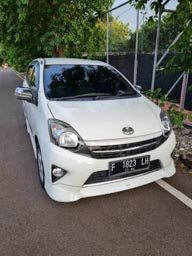plat: (109, 157, 149, 168)
